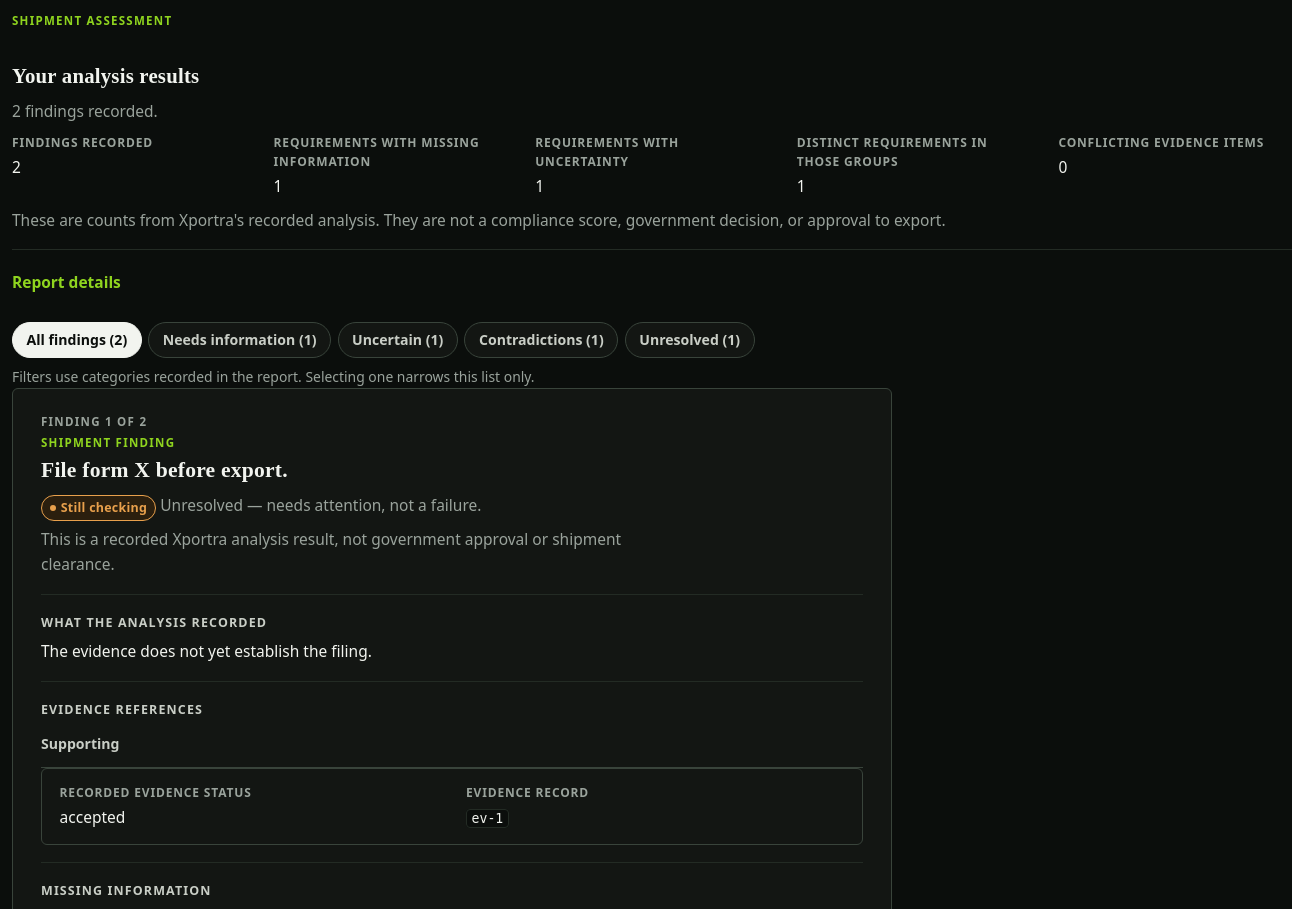
FindingsPage › filters findings by recorded group without inventing categories
Expected: the heading "File form X before export." is shown, x1=41 y1=458 x2=288 y2=482
Expected: the button "Needs information (1)" is shown, x1=148 y1=322 x2=331 y2=358
What coordinates should you click on to do the following:
click the button "Uncertain (1)"
I would click on:
 (398, 340)
Its box is x1=338 y1=322 x2=458 y2=358.
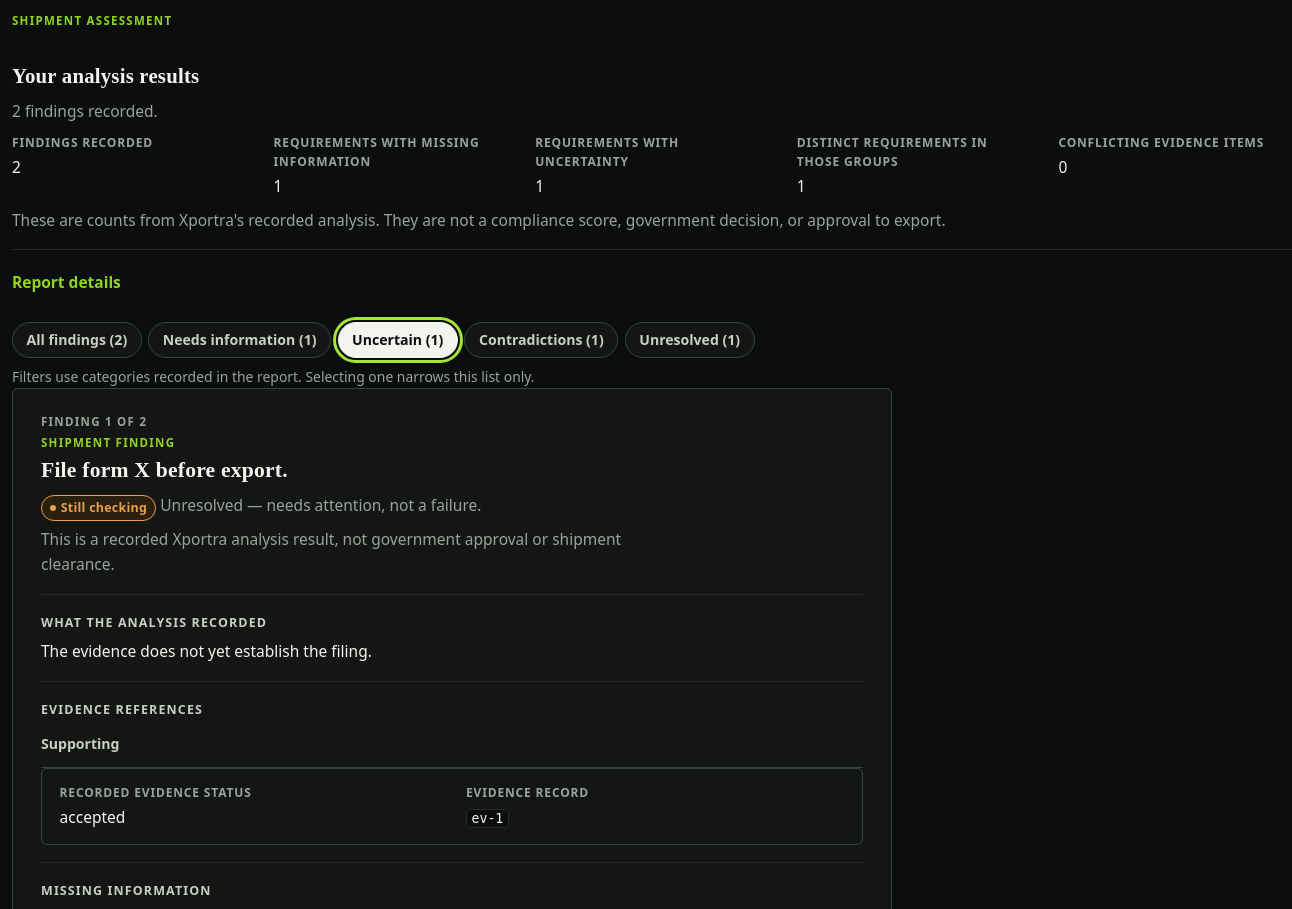
Expected: the heading "File form X before export." is shown, x1=41 y1=458 x2=288 y2=482
Expected: the text "Label goods in English." is not shown
What coordinates should you click on to do the following:
click the button "Contradictions (1)"
I would click on:
 (541, 340)
Its box is x1=464 y1=322 x2=618 y2=358.
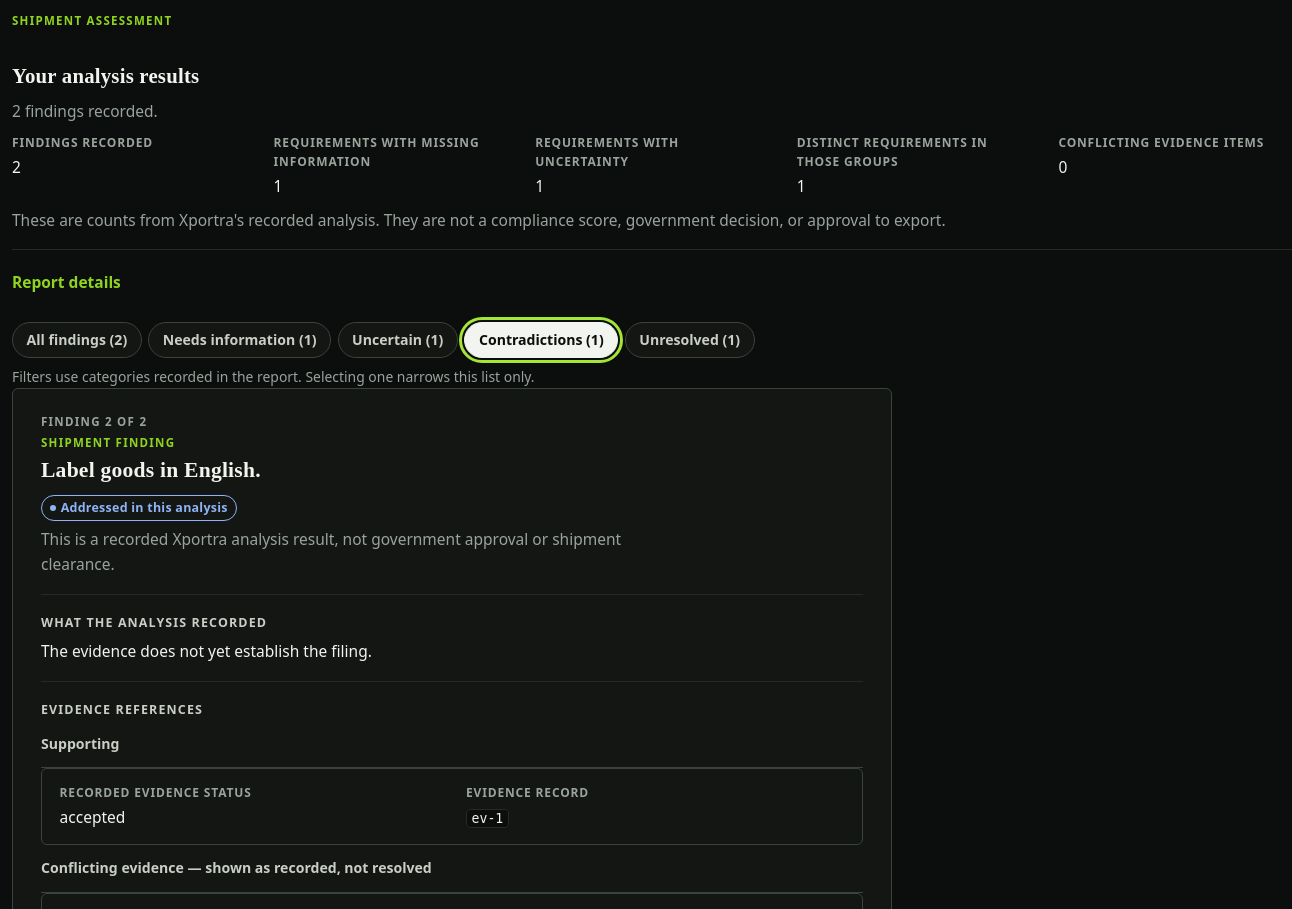
Now the heading "Label goods in English." is shown, box x1=41 y1=458 x2=261 y2=482
Now the heading "File form X before export." is gone
